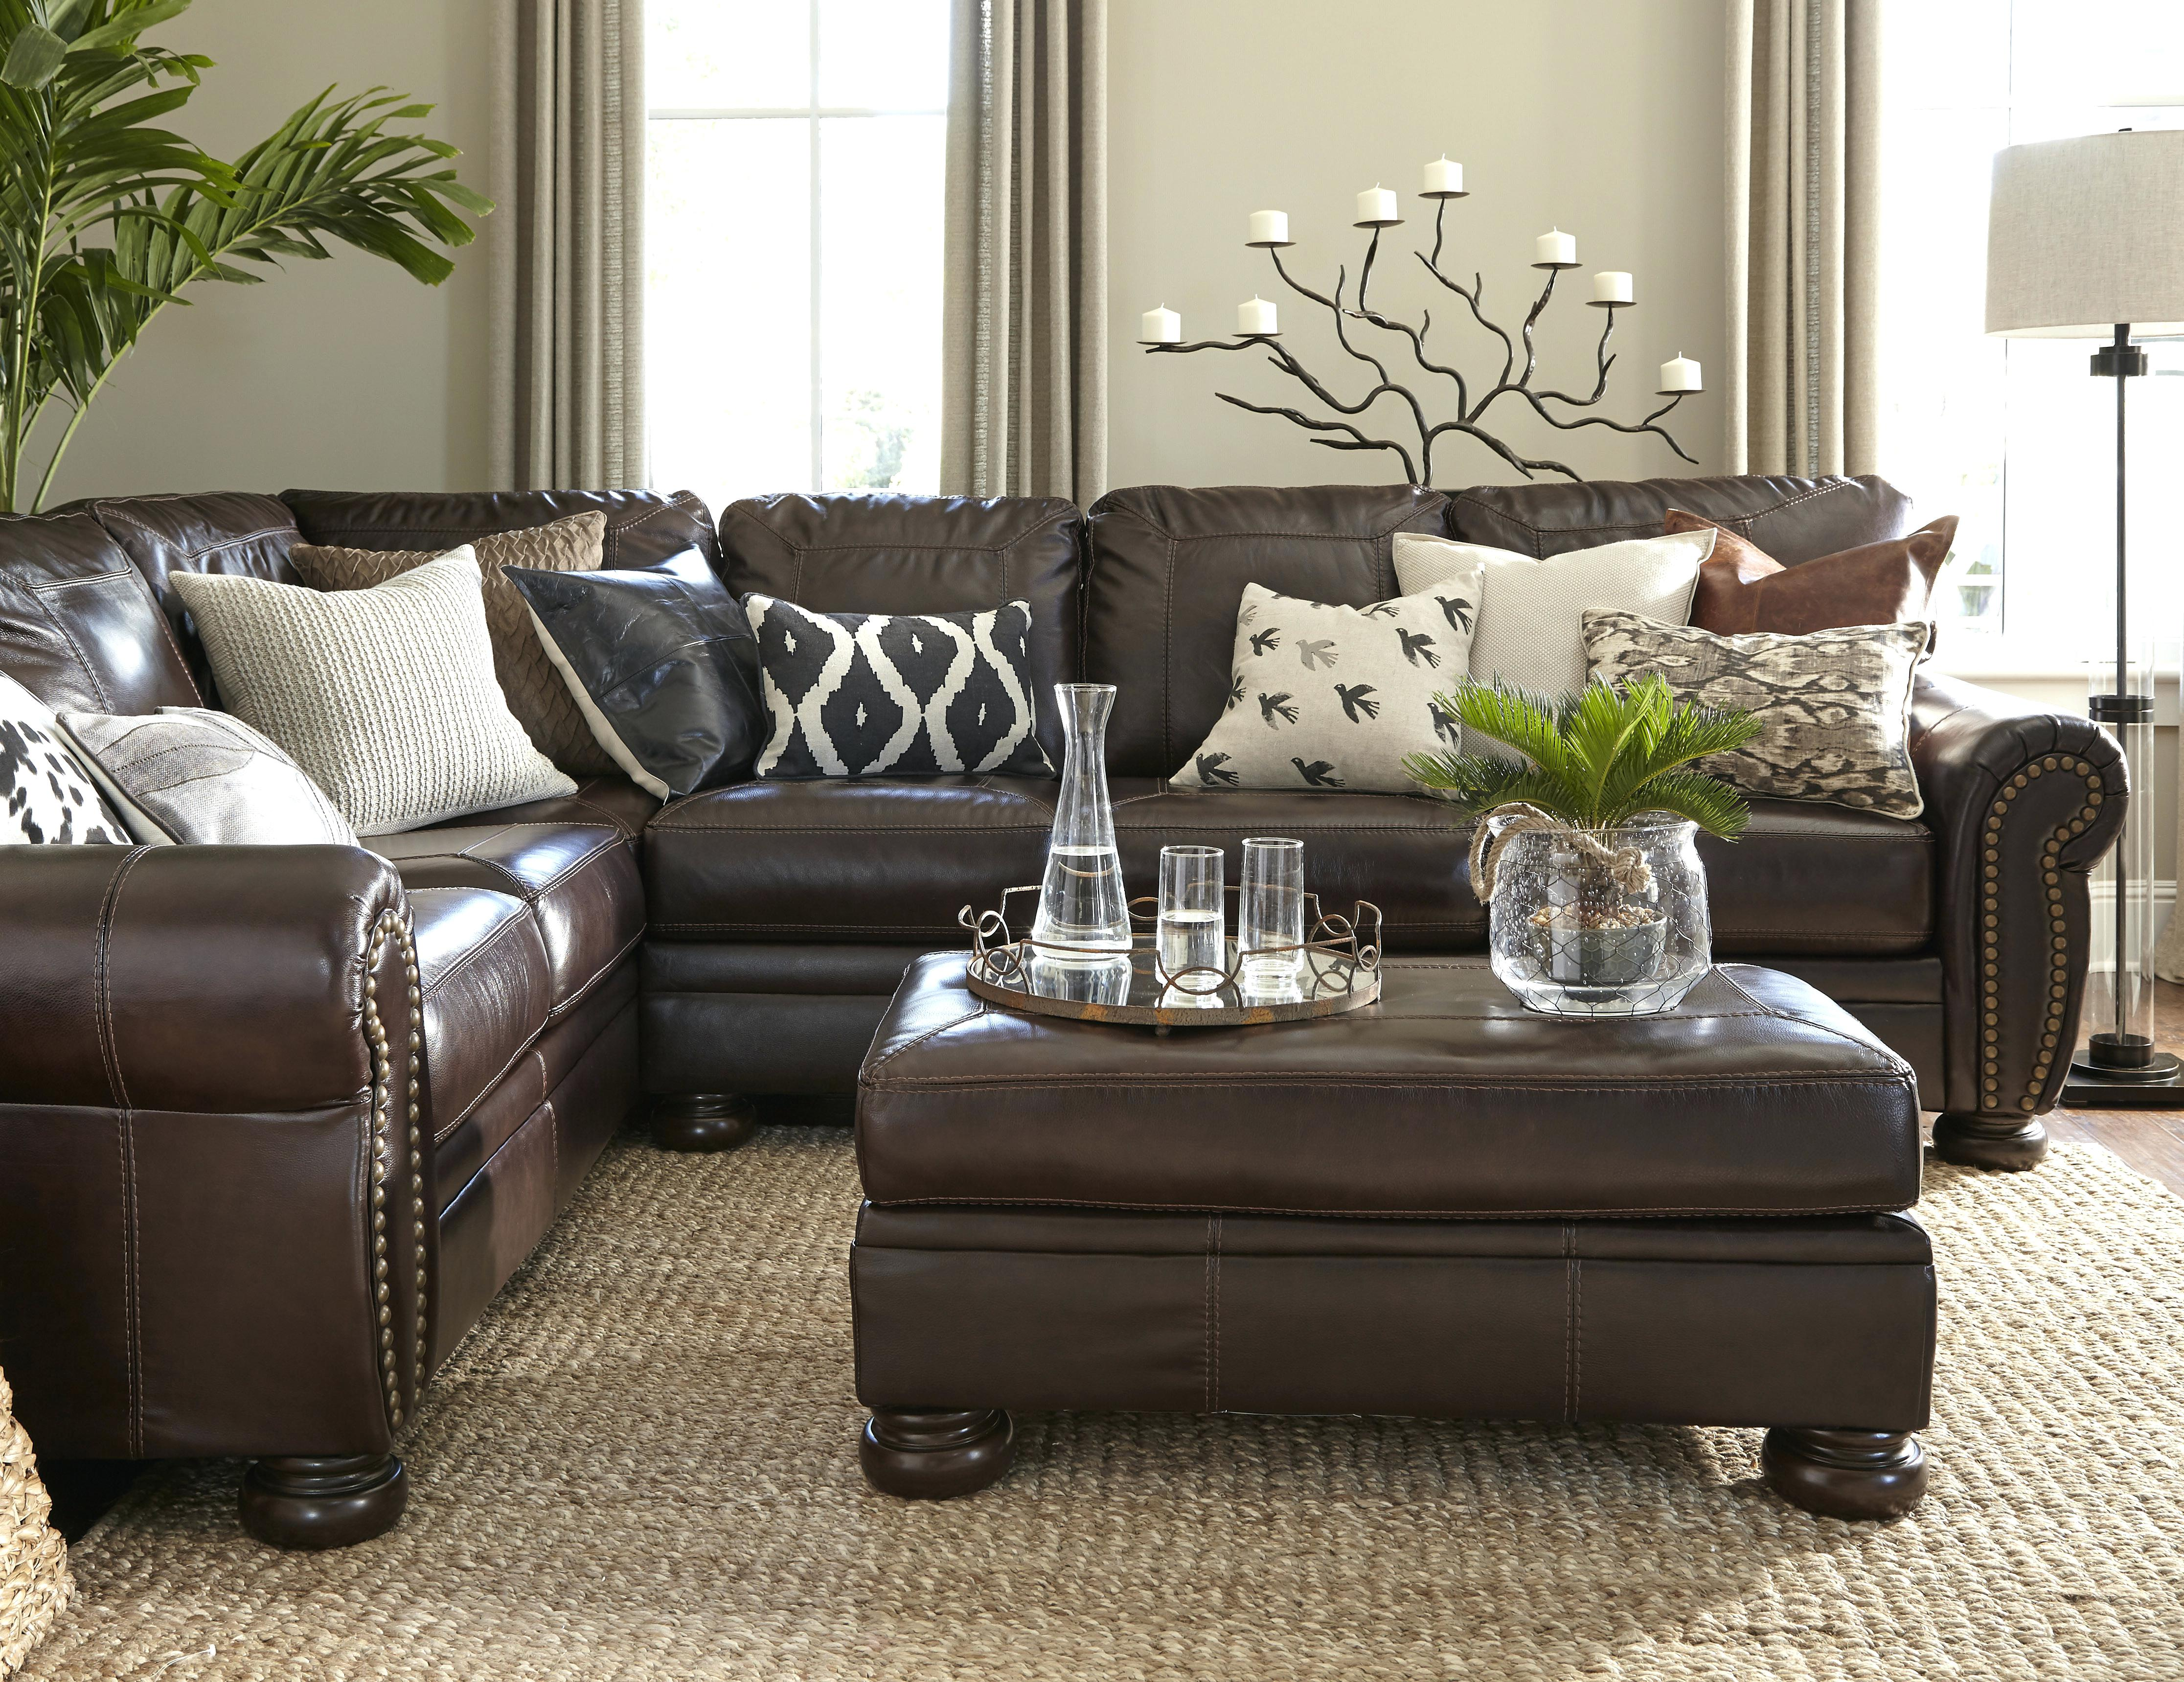chairs: (7, 456, 2142, 1555), (826, 945, 1953, 1534)
